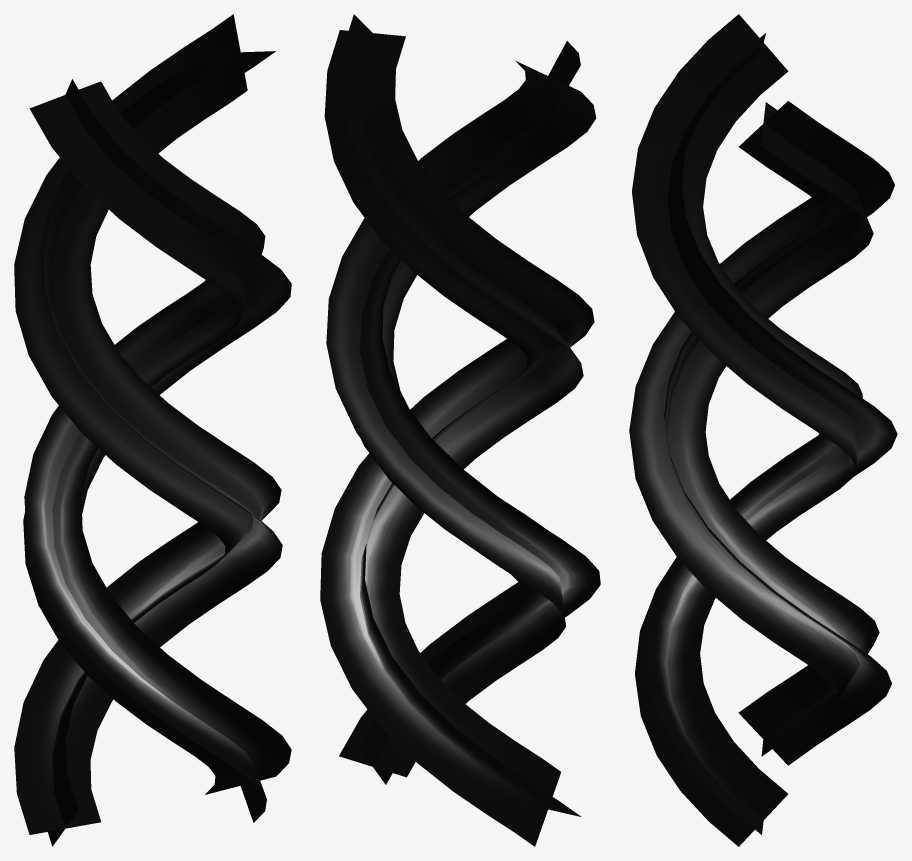
The model's file is Fx_hero3008_helix.FBX.
3 renders of one model, left to right at view 1: azimuth 30°, elevation 25°; view 2: azimuth 150°, elevation 25°; view 3: azimuth 270°, elevation 25°, orthographic. The views are drawn at different scales.
Parts seen in each view (by area): view 1: Plane003; view 2: Plane003; view 3: Plane003.
Part boxes in pixels (x1,y1,x2,y2): Plane003: (14, 14, 291, 846); Plane003: (320, 14, 600, 846); Plane003: (629, 14, 897, 846).
Size of the model in its own units: 7 by 21.51 by 6.99.
